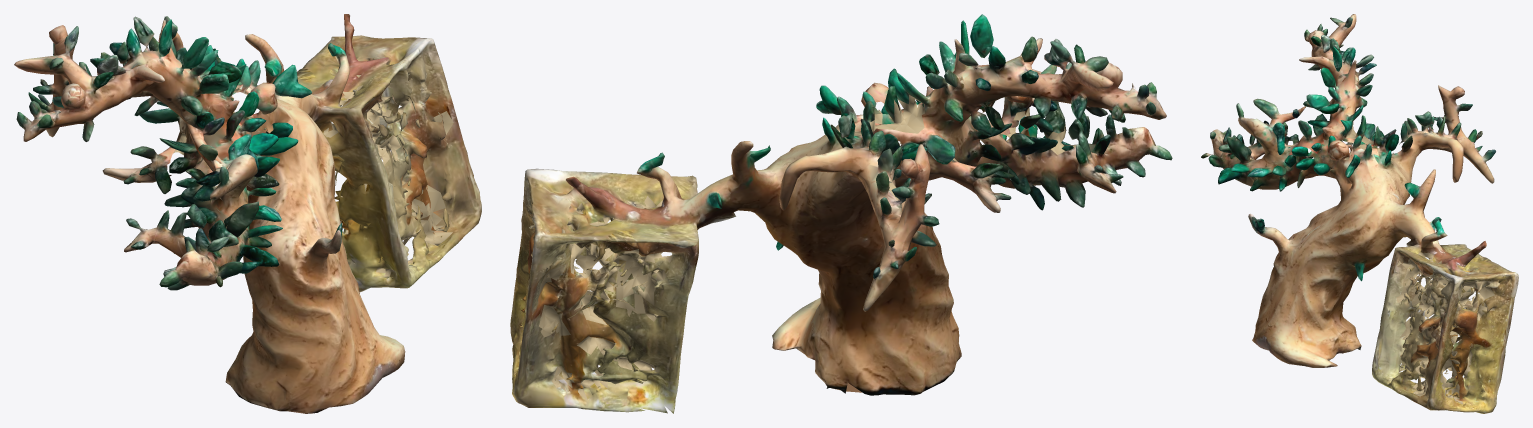
The picture shows the model from 3 angles, left to right: view 1: azimuth 30°, elevation 25°; view 2: azimuth 150°, elevation 25°; view 3: azimuth 270°, elevation 25°; orthographic projection. The views are drawn at different scales.
Visible parts, largest first — view 1: Mesh_0.002; view 2: Mesh_0.002; view 3: Mesh_0.002.
Part boxes in pixels (box(x1,y1,x2,y2)): Mesh_0.002: box(14, 14, 481, 413); Mesh_0.002: box(510, 14, 1172, 413); Mesh_0.002: box(1201, 14, 1518, 413).
Bounding box in the file's own units: 2.31 × 1.57 × 1.71.
Materials: 17 (16 with a texture image).
